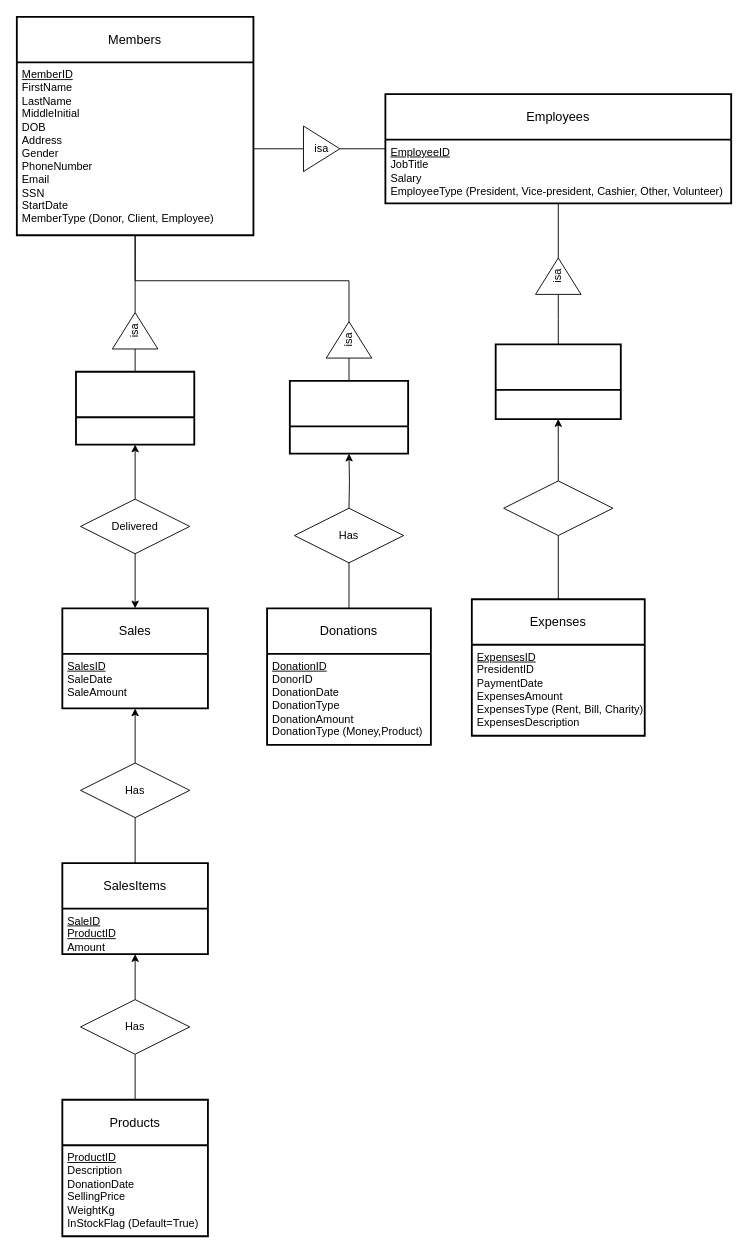
Some shapes in this 747 by 1252 pixel diagram are drawn without their labels. The shapes that lost their labels are listed below. From the top down, each one's centre as x and y in pixels, then its label:
At (557,381): "President".
At (135,407): "Client".
At (348,416): "Donor".
At (558,508): "Approves".
